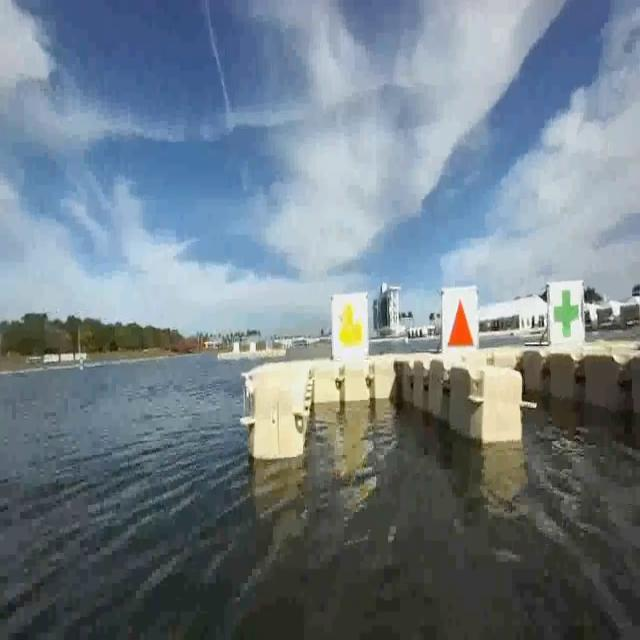blue-cross: (549, 285, 581, 337)
red-dot: (438, 292, 479, 348)
yellow-duck: (332, 292, 370, 364)
